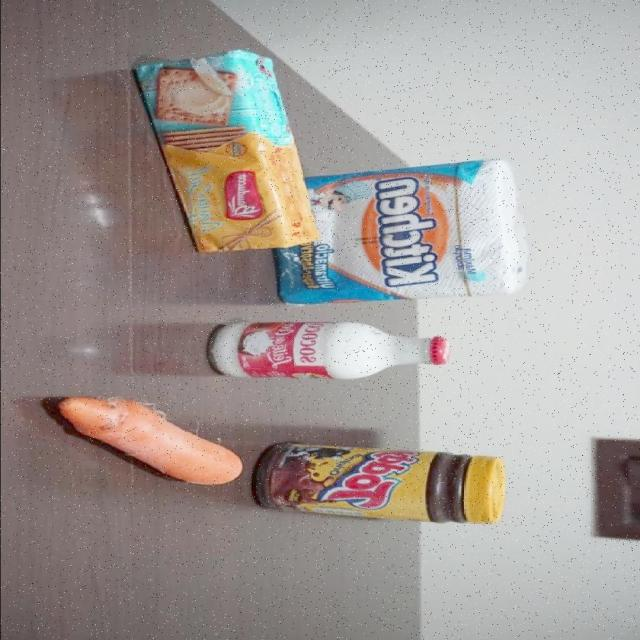Carrot: (51, 396, 242, 487)
ChocolatePowder: (249, 441, 506, 526)
CoconutMilk: (204, 320, 454, 381)
Cracker: (131, 48, 321, 255)
Napkin: (263, 158, 529, 310)
